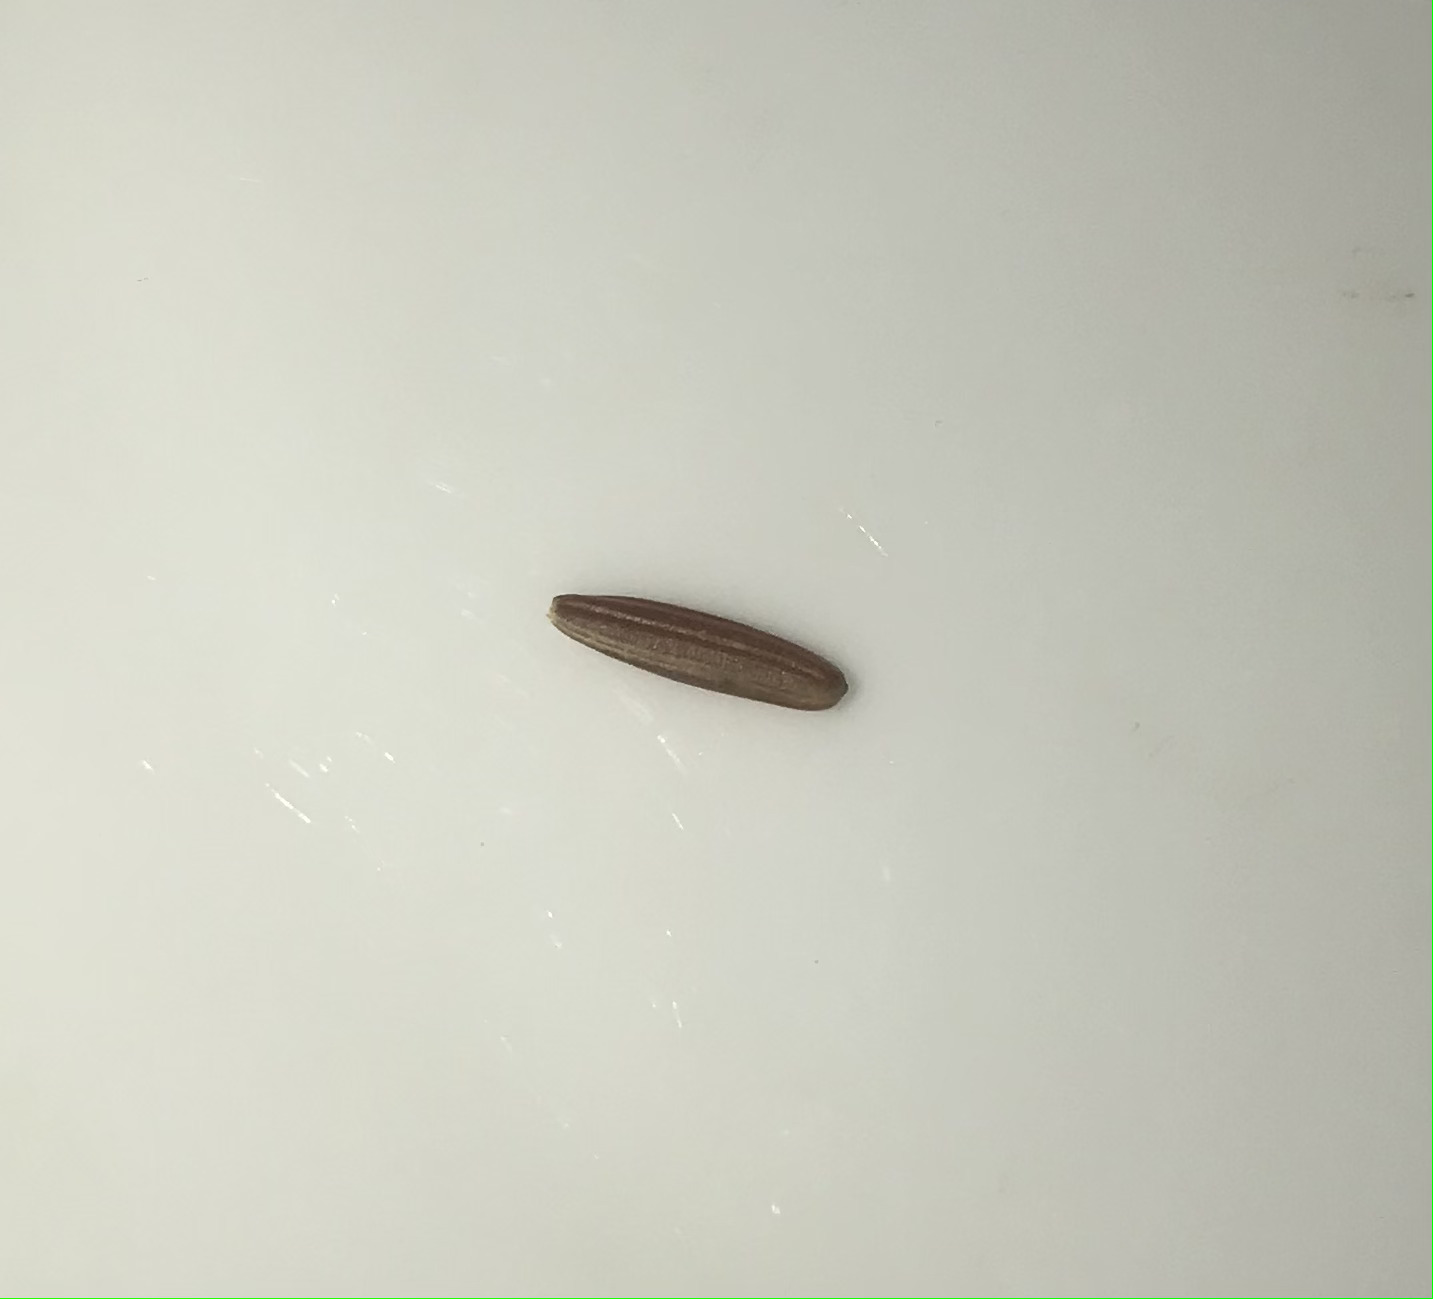Gao Huyet Rong: (545, 577, 854, 722)
